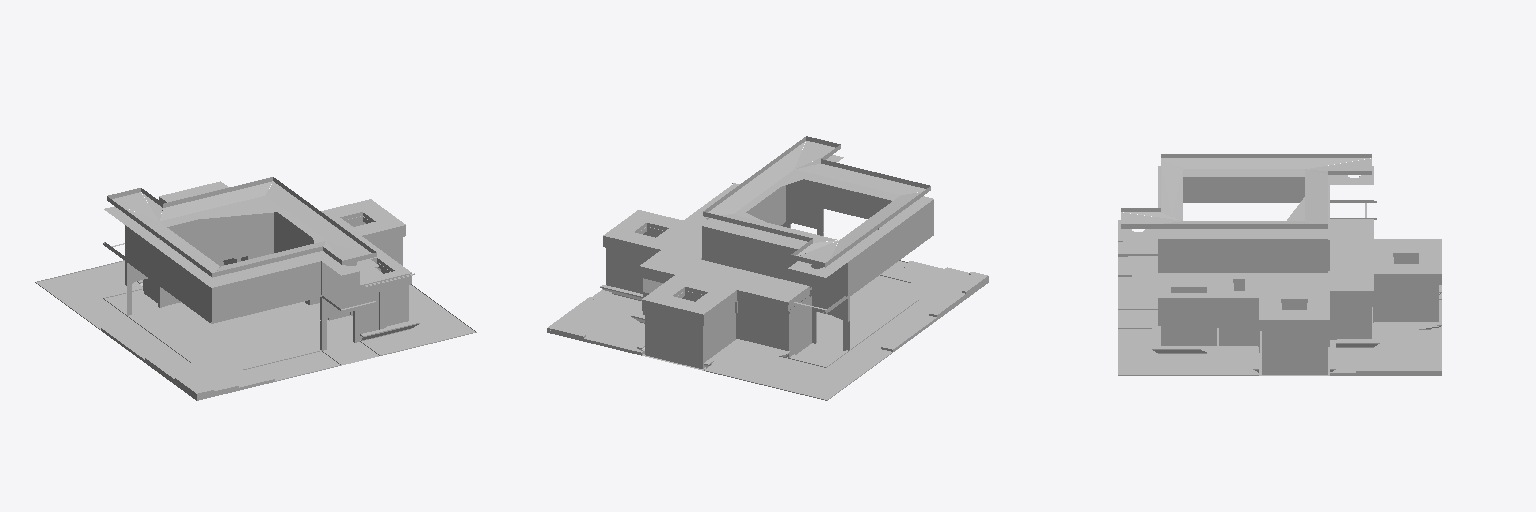
The model's file is building.obj.
3 views of the same model, side by side, from view 1: azimuth 30°, elevation 25°; view 2: azimuth 150°, elevation 25°; view 3: azimuth 270°, elevation 25° (orthographic).
Size of the model in its own units: 65.1 by 23 by 65.11.